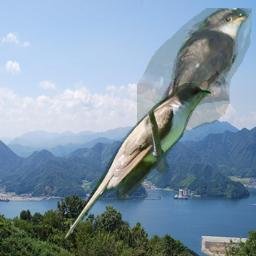Cuckoo: (62, 83, 211, 241), (137, 8, 252, 142)
